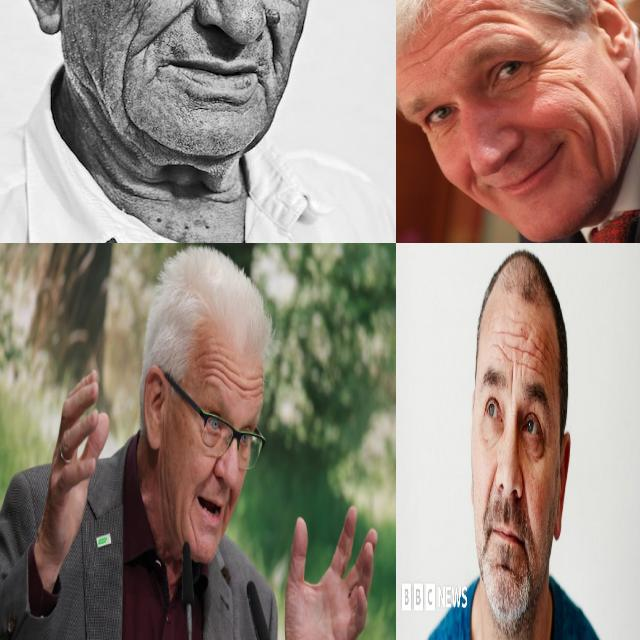chin: (196, 90, 238, 116)
crows_feet: (530, 43, 566, 81)
forehead: (408, 32, 454, 68), (466, 0, 506, 26), (203, 348, 229, 387), (237, 372, 263, 402), (495, 336, 511, 364), (524, 318, 536, 351), (512, 328, 522, 362), (527, 349, 539, 377), (536, 337, 547, 365)
frown_line: (510, 364, 515, 395)
gummy_smile: (140, 0, 198, 45), (263, 12, 283, 64), (486, 461, 496, 506), (522, 474, 530, 519)
masseter: (113, 54, 137, 124), (78, 59, 104, 115), (584, 120, 608, 170), (158, 459, 175, 525), (569, 74, 599, 110)
sad_smile: (253, 71, 273, 107), (144, 62, 166, 86), (189, 496, 198, 544)
